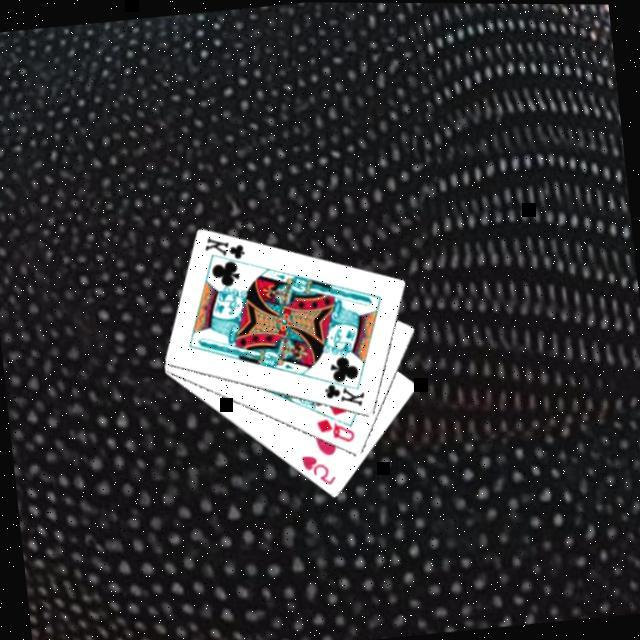5H: (300, 448, 343, 489)
KC: (321, 369, 371, 411), (202, 229, 252, 271)
QD: (314, 411, 361, 447)
